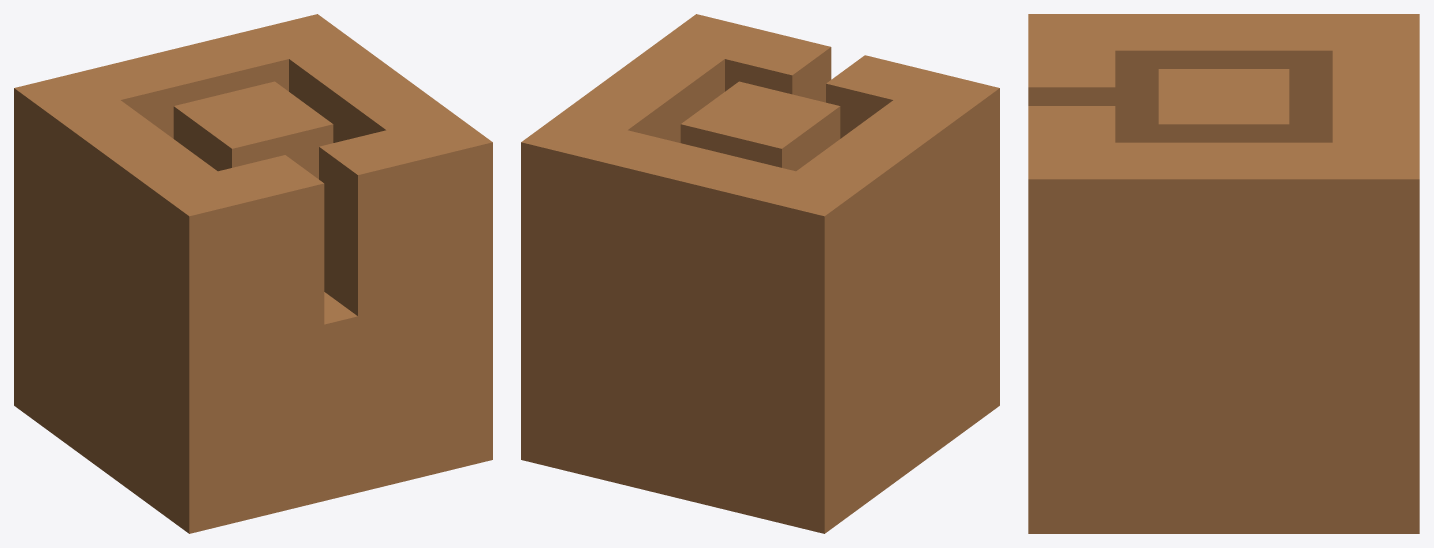
The model's file is Thin_Square_End_Model.fbx.
3 renders of one model, left to right at view 1: azimuth 30°, elevation 25°; view 2: azimuth 150°, elevation 25°; view 3: azimuth 270°, elevation 25°, orthographic. The views are drawn at different scales.
Visible parts, largest first — view 1: Cube; view 2: Cube; view 3: Cube.
Boxes of the visible parts, <box> form: Cube: <box>14,14,492,533</box>; Cube: <box>521,14,999,533</box>; Cube: <box>1028,14,1419,533</box>.
Bounding box in the file's own units: 100 × 100 × 100.
